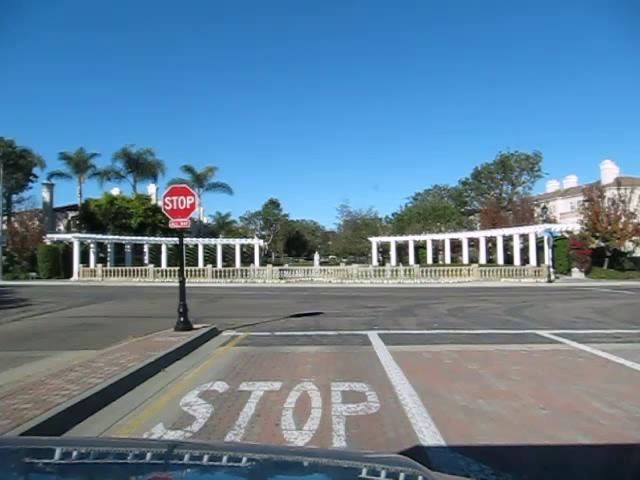stop: (161, 184, 197, 220)
